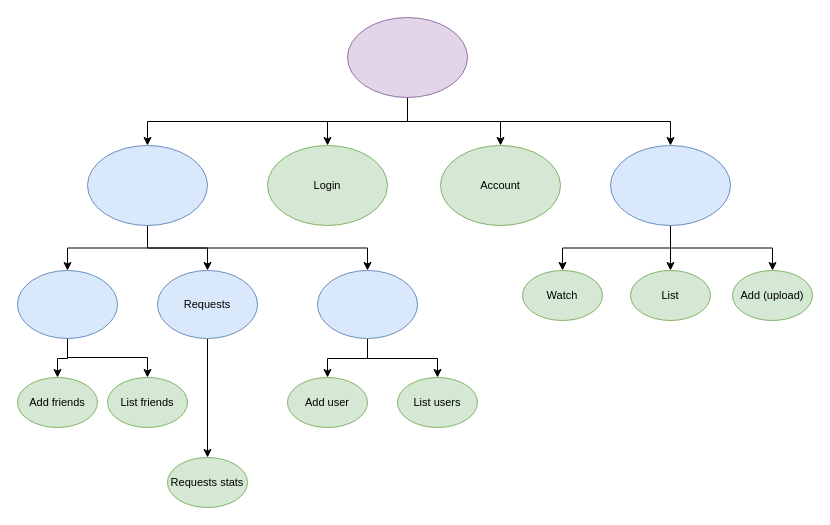
Some shapes in this 830 by 525 pixel diagram are drawn without their labels. The box of each missing label's shape, as (x1, y1, x2, y2) in pixels:
Admin: (86, 144, 208, 226)
App component: (346, 16, 468, 98)
Friends: (16, 270, 118, 338)
Users: (316, 270, 418, 338)
Videos: (610, 144, 730, 226)
